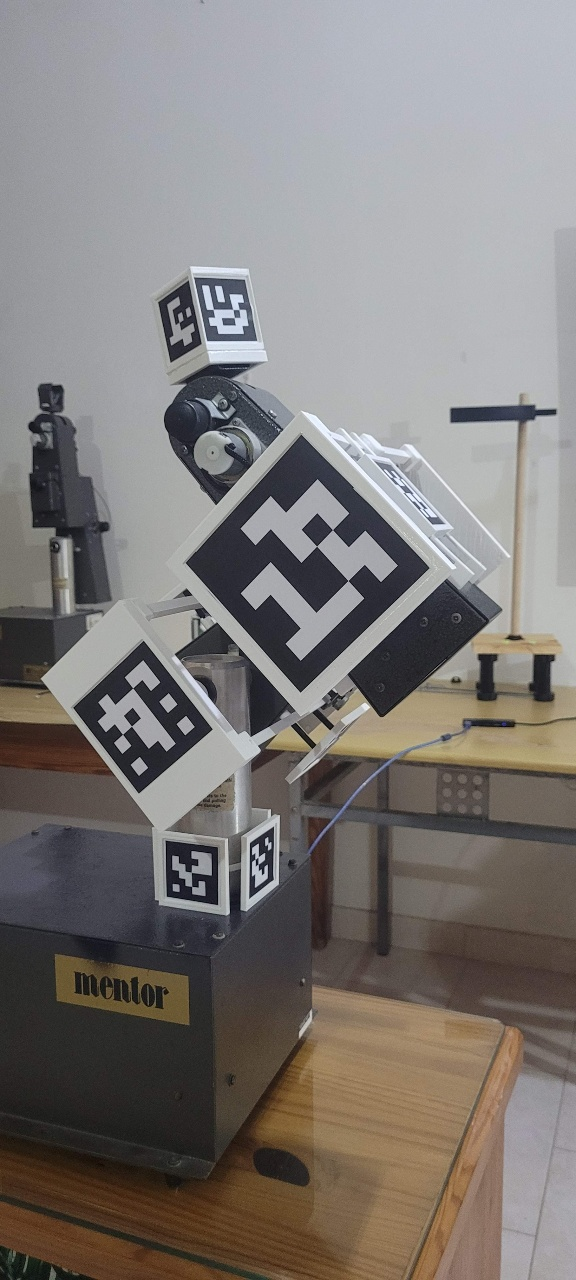Robot: (5, 321, 565, 944)
